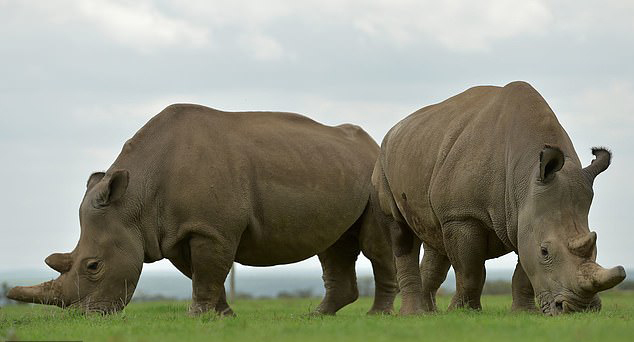Rhinoceros: (362, 39, 628, 319)
